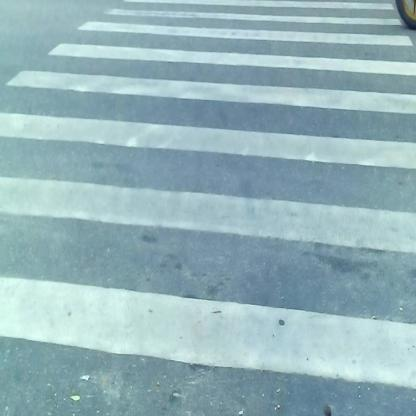crosswalk: (9, 9, 416, 402)
